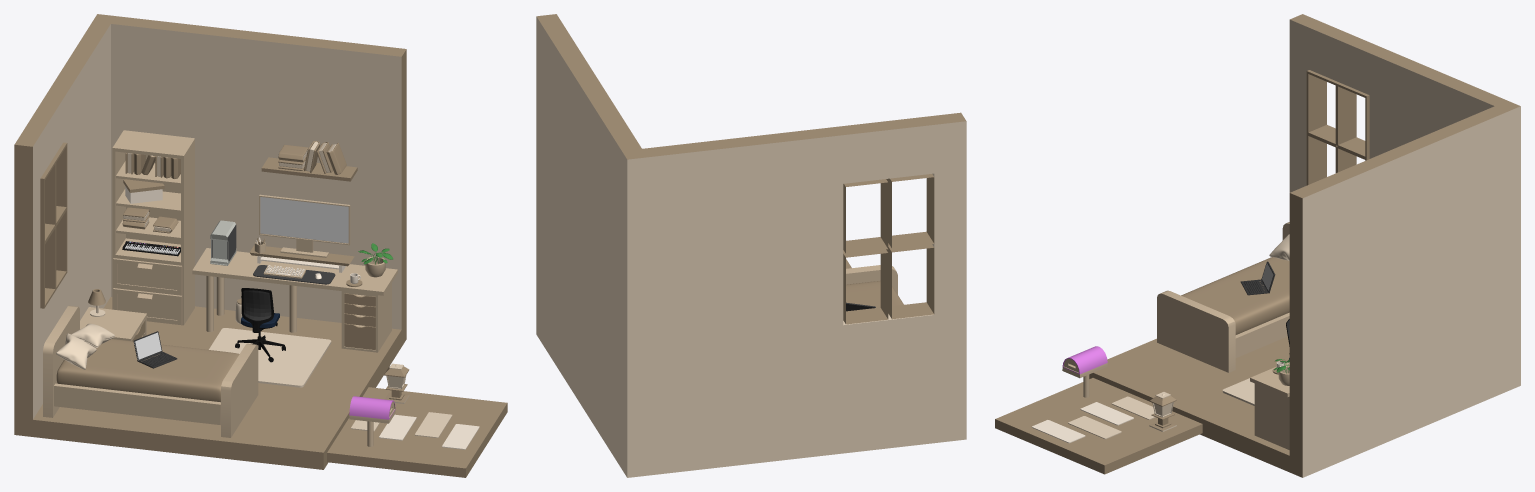
File: room.glb
3 renders of one model, left to right at view 1: azimuth 30°, elevation 25°; view 2: azimuth 150°, elevation 25°; view 3: azimuth 270°, elevation 25°, orthographic. The views are drawn at different scales.
Visible parts, largest first — view 1: Ground, Shelf, Cube.001, Bed Frame, Matress, Table Leg, Window, Plane.002, Screen, Drawer, Chair, Drawer.001 (+15 smaller); view 2: Ground, Window, Matress, Bed Frame; view 3: Ground, Cube.001, Bed Frame, Window, Matress, Drawer, Cylinder.002, Cube.002, Plane.004, Plane.006, Plane.005, Table Leg.
Part boxes in pixels (x1,y1,x2,y2): Ground: (14, 14, 406, 469); Shelf: (112, 130, 194, 325); Cube.001: (327, 387, 507, 477); Bed Frame: (43, 305, 258, 437); Matress: (56, 339, 239, 402); Table Leg: (192, 248, 397, 332); Window: (40, 142, 67, 308); Plane.002: (209, 328, 331, 387); Screen: (260, 197, 348, 243); Drawer: (341, 283, 391, 352); Chair: (235, 288, 285, 362); Drawer.001: (80, 307, 146, 341); Ground: (536, 14, 966, 477); Window: (843, 174, 934, 324); Matress: (846, 281, 903, 307); Bed Frame: (846, 265, 897, 294); Ground: (1089, 14, 1520, 477); Cube.001: (995, 378, 1202, 474); Bed Frame: (1157, 222, 1289, 372); Window: (1306, 70, 1369, 185); Matress: (1181, 257, 1289, 334); Drawer: (1254, 383, 1289, 449); Cylinder.002: (1062, 346, 1107, 397); Cube.002: (1149, 392, 1176, 431); Plane.004: (1080, 402, 1133, 425); Plane.006: (1032, 420, 1085, 443); Plane.005: (1068, 416, 1121, 439); Table Leg: (1250, 362, 1289, 397).
Bounding box in the file's own units: 3.17 × 2.24 × 3.82.
21 materials, 1 textured.
